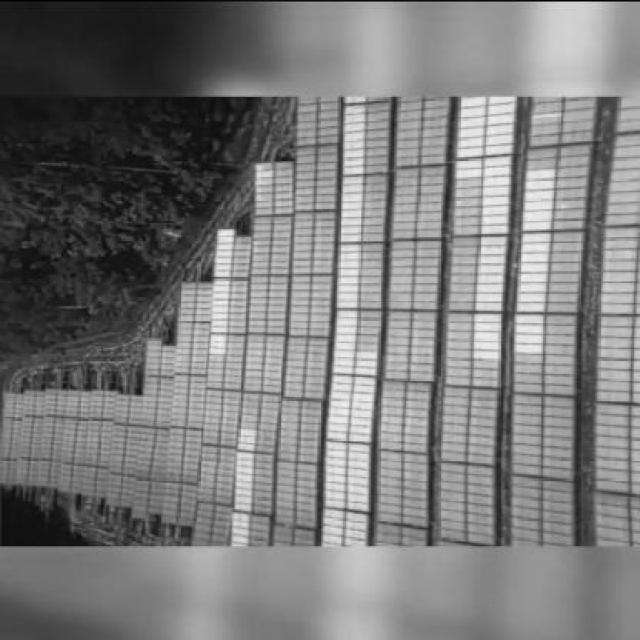diode: (453, 104, 481, 116), (479, 236, 507, 247), (514, 312, 544, 322), (522, 250, 547, 262), (453, 144, 478, 156), (454, 114, 478, 126), (454, 124, 478, 136), (454, 134, 478, 146), (523, 232, 551, 242), (485, 99, 510, 110), (452, 163, 476, 174), (478, 227, 507, 236), (527, 168, 553, 178), (526, 198, 552, 208), (516, 333, 544, 342), (515, 323, 543, 332), (472, 349, 500, 358), (483, 165, 514, 173), (518, 291, 545, 300), (521, 271, 548, 280), (522, 243, 549, 252), (476, 256, 506, 264), (476, 246, 506, 254), (520, 280, 546, 289), (473, 341, 499, 350), (483, 141, 509, 150), (478, 210, 507, 218), (478, 193, 507, 201), (453, 154, 476, 164), (337, 122, 360, 132), (475, 314, 500, 323), (476, 298, 501, 307), (476, 270, 501, 279), (335, 141, 360, 150), (519, 262, 547, 270), (525, 179, 553, 187), (475, 262, 503, 270), (453, 95, 481, 103), (483, 177, 511, 185), (486, 122, 508, 132), (336, 192, 358, 202), (335, 258, 357, 268), (356, 356, 378, 366), (325, 498, 347, 508), (525, 190, 552, 198), (524, 210, 551, 218), (475, 324, 499, 333), (482, 186, 509, 194), (485, 157, 512, 165), (328, 514, 349, 524), (476, 290, 502, 298), (524, 221, 553, 228), (335, 267, 357, 276), (350, 489, 372, 498), (348, 520, 370, 529), (474, 333, 498, 341), (477, 280, 501, 288), (335, 292, 354, 302), (332, 416, 351, 426), (352, 446, 371, 456), (487, 111, 508, 120), (484, 149, 511, 156), (327, 458, 348, 467), (328, 528, 349, 537), (351, 463, 372, 472), (328, 491, 349, 500), (533, 111, 564, 117), (514, 346, 544, 352), (358, 374, 376, 384), (352, 496, 370, 506), (352, 504, 370, 514), (340, 102, 362, 110), (348, 455, 370, 463), (350, 472, 372, 480), (212, 293, 231, 302), (358, 367, 377, 376), (515, 303, 543, 309), (477, 221, 505, 227), (482, 133, 510, 139), (337, 202, 358, 210), (328, 442, 349, 450), (354, 386, 375, 394), (327, 509, 348, 517), (340, 183, 358, 192), (337, 349, 355, 358), (335, 373, 353, 382), (335, 424, 353, 433), (330, 433, 348, 442), (350, 480, 368, 489), (335, 335, 357, 342), (355, 395, 377, 402), (336, 277, 355, 285), (329, 477, 348, 485), (480, 202, 505, 208), (352, 439, 373, 446), (215, 246, 233, 254), (212, 287, 230, 295), (342, 112, 360, 120), (338, 134, 362, 140), (338, 209, 356, 217), (338, 358, 354, 367), (235, 479, 253, 487), (255, 177, 273, 185), (232, 526, 250, 534), (330, 467, 345, 476), (355, 405, 374, 412), (353, 431, 372, 438), (338, 168, 360, 174), (338, 94, 360, 100), (339, 246, 361, 252), (336, 286, 358, 292), (333, 382, 355, 388), (332, 393, 354, 399), (350, 514, 372, 520), (336, 302, 358, 308), (212, 302, 228, 310), (336, 399, 352, 407), (233, 512, 249, 520), (349, 530, 365, 538), (337, 151, 358, 157), (338, 251, 356, 258), (334, 368, 355, 374), (357, 350, 378, 356), (339, 176, 359, 182), (241, 429, 256, 437), (238, 441, 255, 448), (349, 539, 366, 546), (335, 342, 354, 348), (333, 410, 352, 416), (329, 452, 348, 458), (329, 537, 348, 543), (355, 414, 374, 420), (233, 521, 252, 527), (336, 324, 355, 330), (218, 239, 232, 247), (212, 331, 228, 338), (212, 343, 226, 351), (329, 486, 351, 491), (214, 254, 232, 260), (214, 261, 232, 267), (338, 160, 356, 166), (337, 316, 355, 322), (338, 328, 356, 334), (340, 236, 358, 242), (355, 422, 373, 428), (218, 230, 236, 236), (237, 474, 252, 481), (239, 436, 256, 442), (235, 490, 252, 496), (236, 502, 253, 508), (257, 171, 274, 177), (476, 307, 501, 311), (213, 310, 229, 316), (238, 452, 254, 458), (238, 460, 254, 466), (339, 219, 358, 224), (214, 280, 229, 286), (217, 236, 235, 241), (340, 228, 355, 234), (238, 496, 253, 502), (484, 96, 511, 99), (213, 323, 225, 329), (240, 467, 252, 473), (338, 309, 356, 313), (233, 537, 250, 541), (211, 317, 227, 321), (215, 275, 230, 279), (217, 268, 231, 272), (214, 338, 228, 342), (233, 542, 247, 544)
hotspot: (256, 165, 266, 169)
